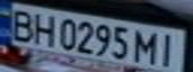0: (54, 16, 78, 51)
2: (75, 18, 96, 55)
5: (112, 24, 136, 61)
9: (90, 21, 115, 59)
B: (3, 7, 39, 42)
H: (27, 11, 60, 46)
I: (154, 30, 184, 68)
M: (133, 28, 163, 65)
